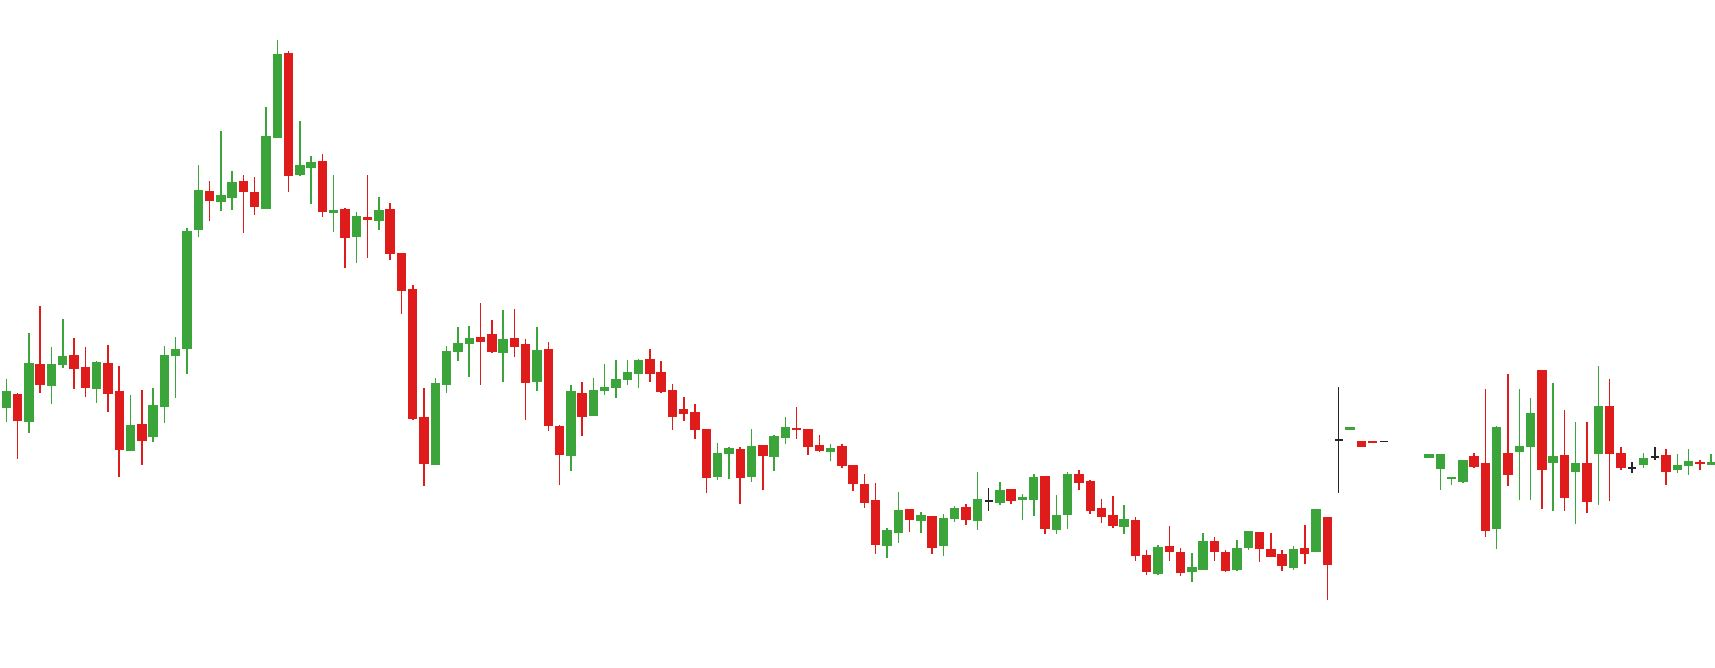buy: (12, 361, 136, 481)
